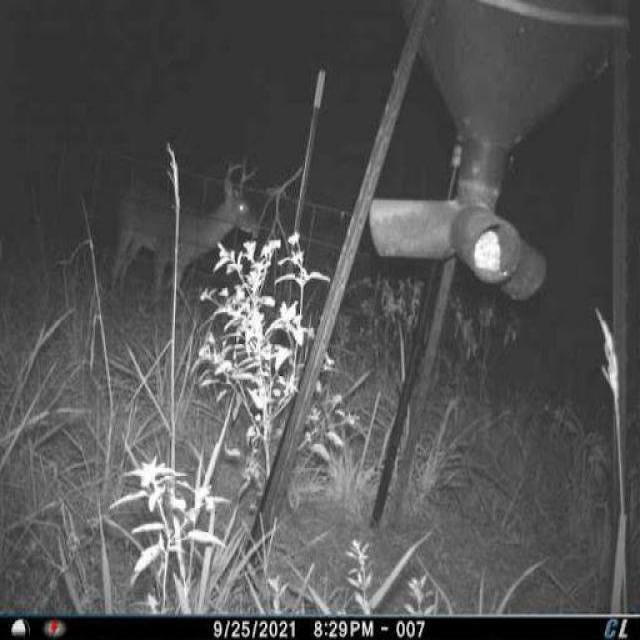deer: (108, 145, 266, 306)
